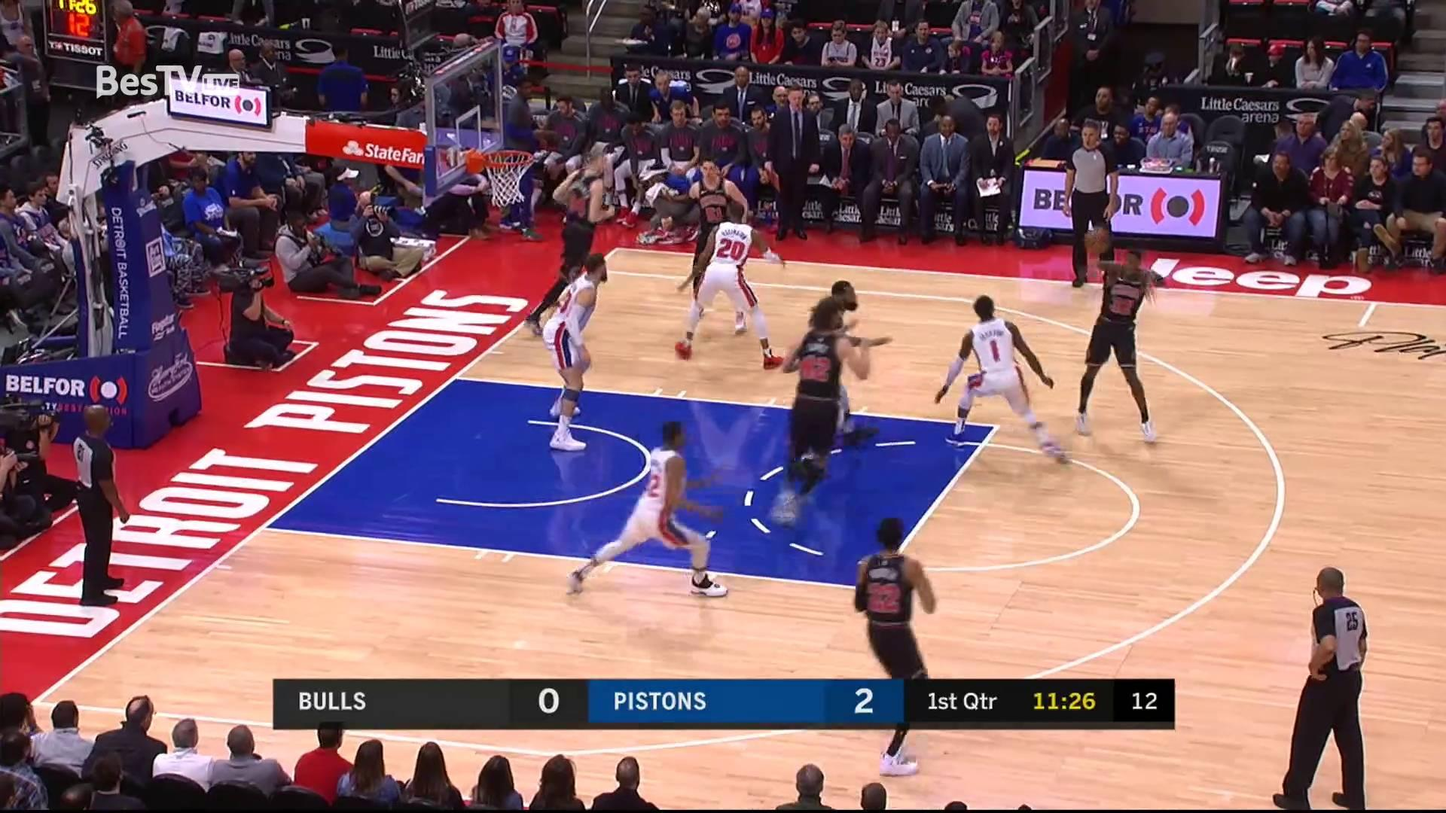basketball: (1082, 227, 1113, 253)
